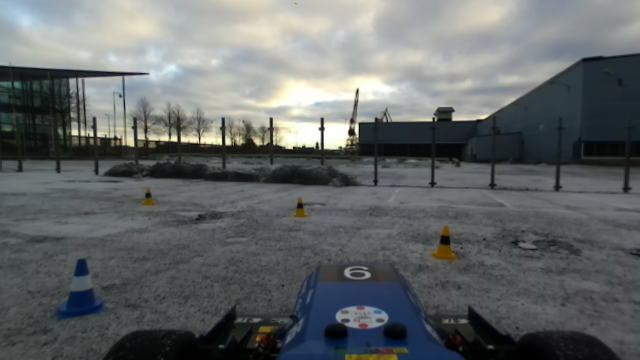blue: (54, 255, 108, 317)
yellow: (431, 226, 458, 260), (290, 196, 308, 217), (141, 187, 155, 206)
